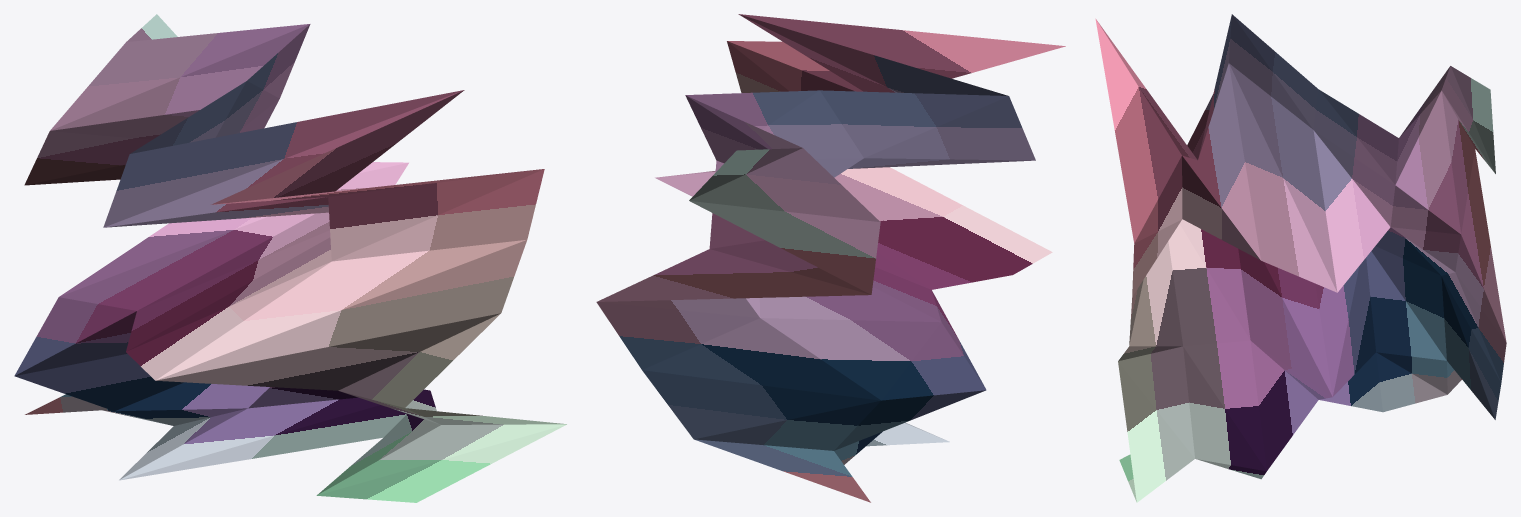
The picture shows the model from 3 angles, left to right: view 1: azimuth 30°, elevation 25°; view 2: azimuth 150°, elevation 25°; view 3: azimuth 270°, elevation 25°; orthographic projection. The views are drawn at different scales.
Bounding box in the file's own units: 44.08 × 35.08 × 38.34.
1 material, 1 textured.
